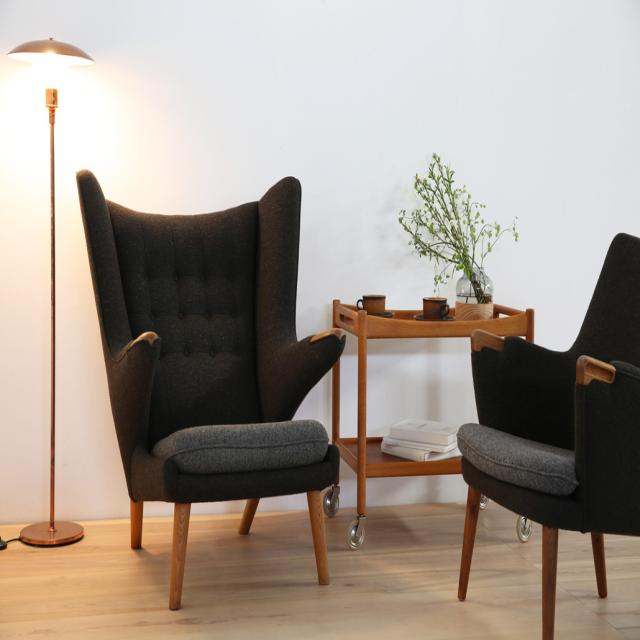chair vintage: (67, 158, 346, 609)
